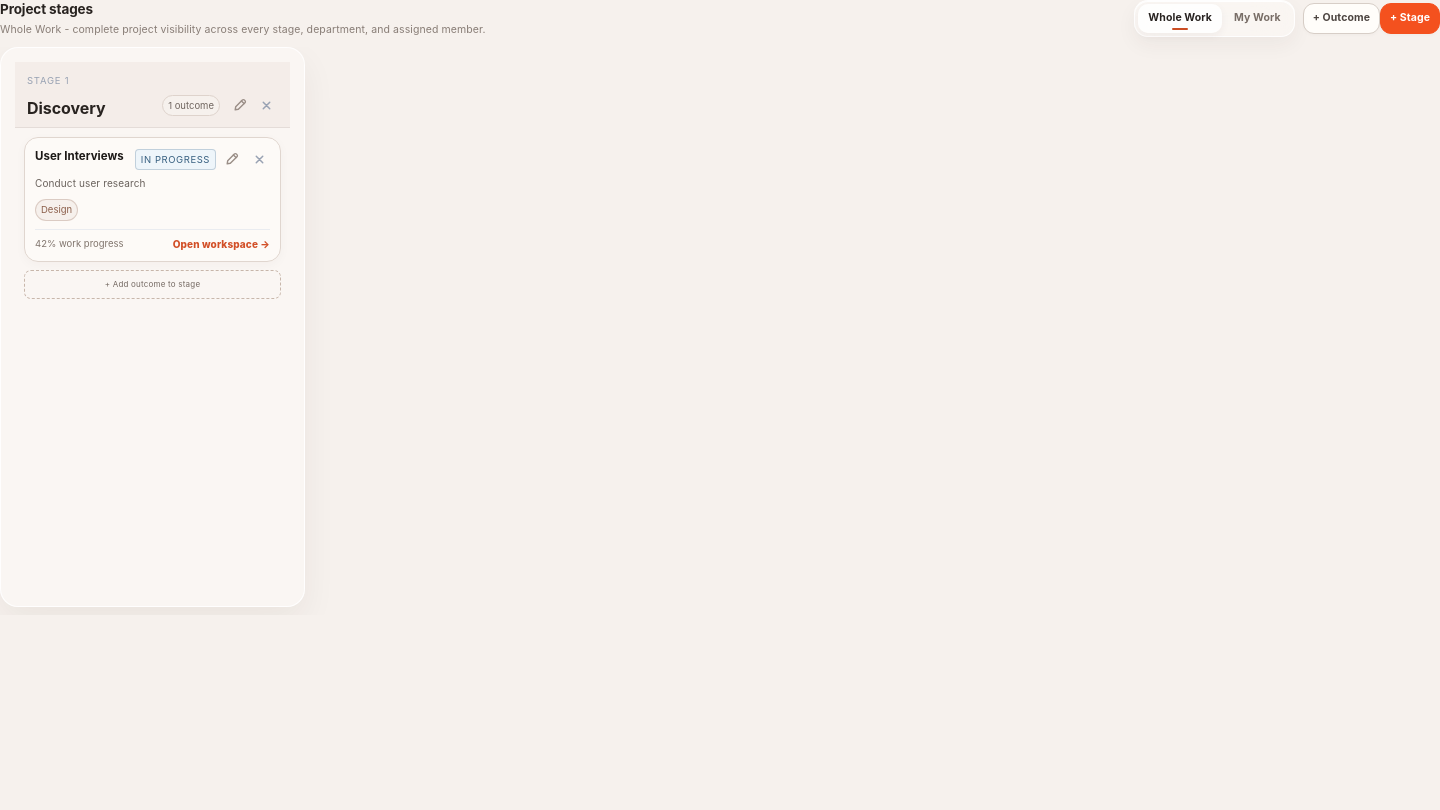
Test: ProjectWorkflow Stage & Outcome Deletion › opens confirmation dialog on clicking stage X and cancels cleanly
The width and height of the screenshot is (1440, 810).
What coordinates should you click on to do the following:
click the button named "Delete Stage Discovery"
I would click on:
 (266, 105)
Its box is x1=254 y1=93 x2=278 y2=117.
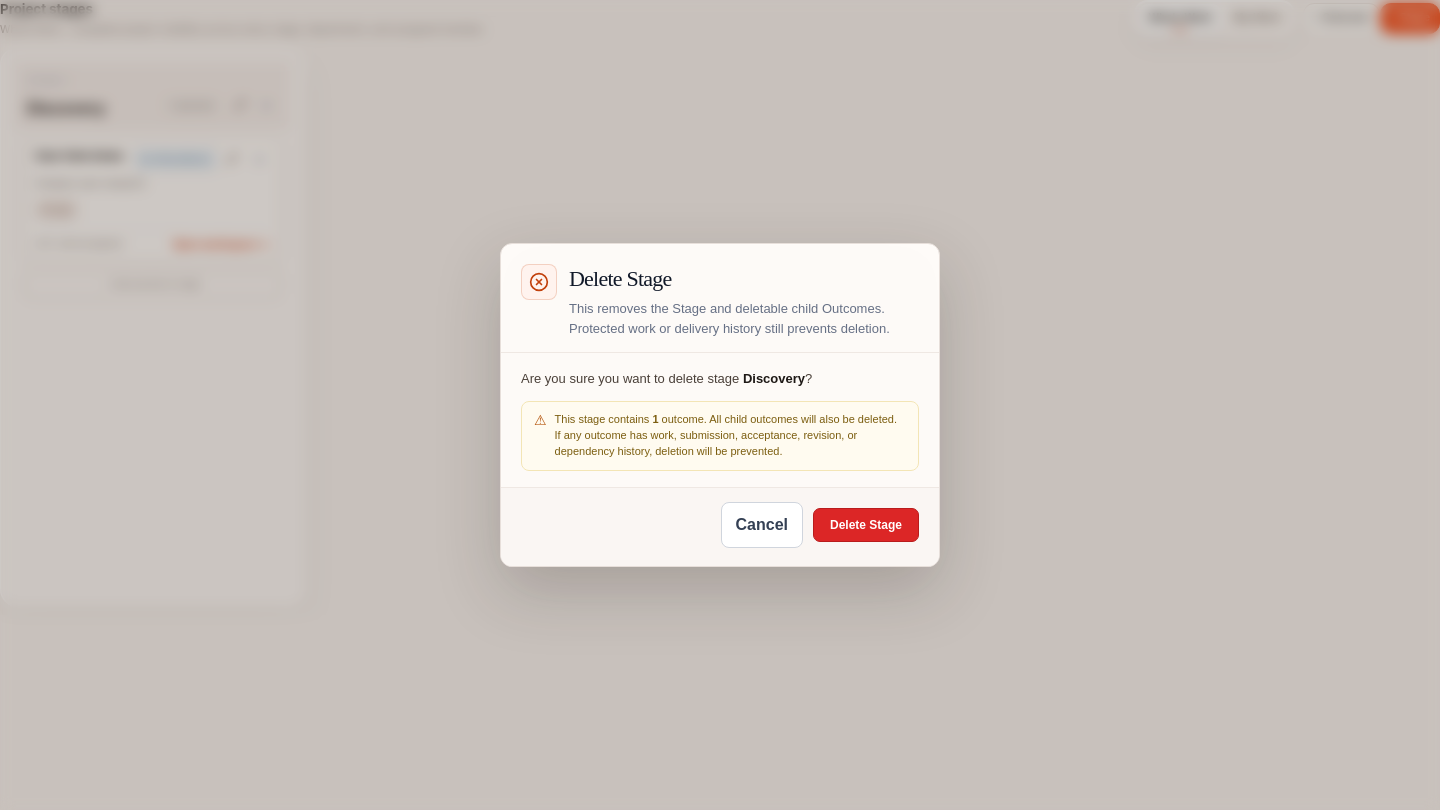
Check: the dialog is shown, box x1=500 y1=243 x2=940 y2=567
Check: the heading "Delete Stage" is shown, box x1=569 y1=266 x2=672 y2=291
Check: the text "Are you sure you want to delete stage Discovery?" is shown, box x1=521 y1=371 x2=812 y2=386
What coordinates should you click on to do the following:
click the button "Cancel"
I would click on:
 (762, 525)
Its box is x1=720 y1=502 x2=803 y2=548.
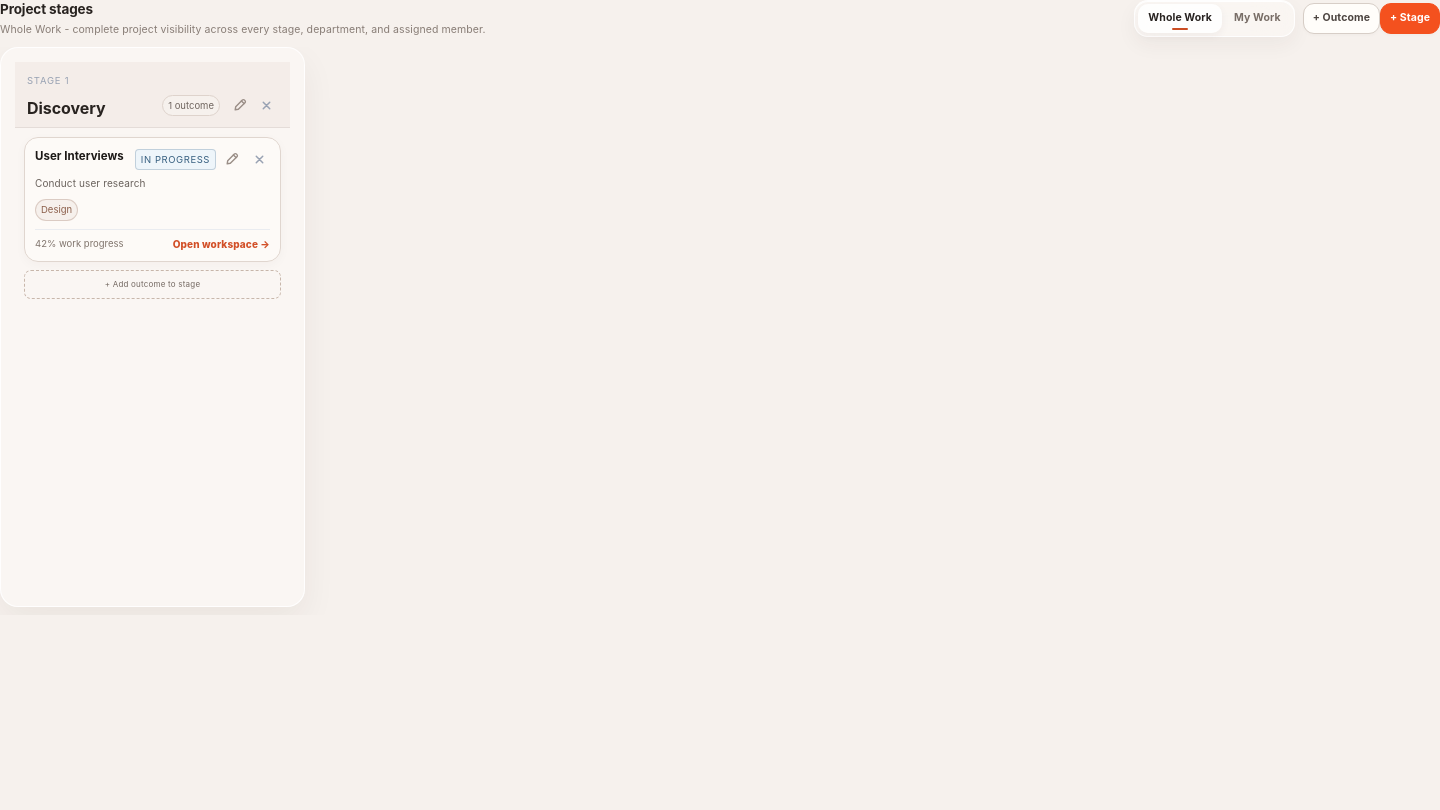
Check: the dialog is gone
